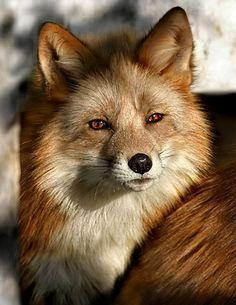fox: (0, 3, 236, 304)
